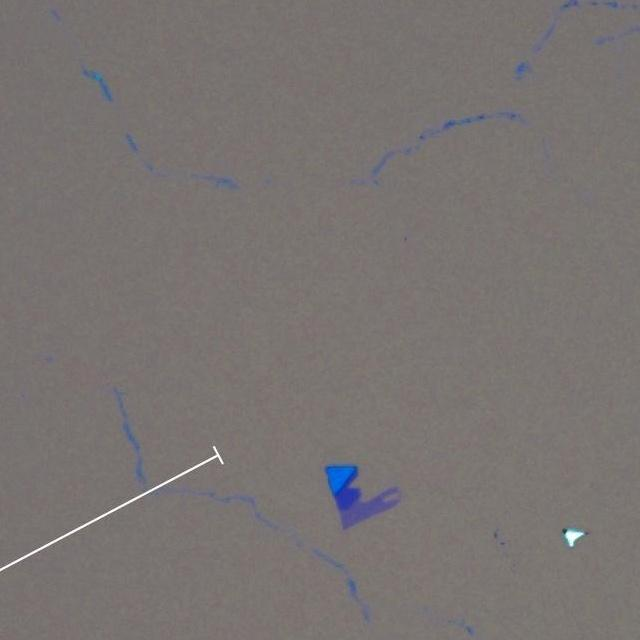monolayer-eWW4: (339, 485, 404, 533)
